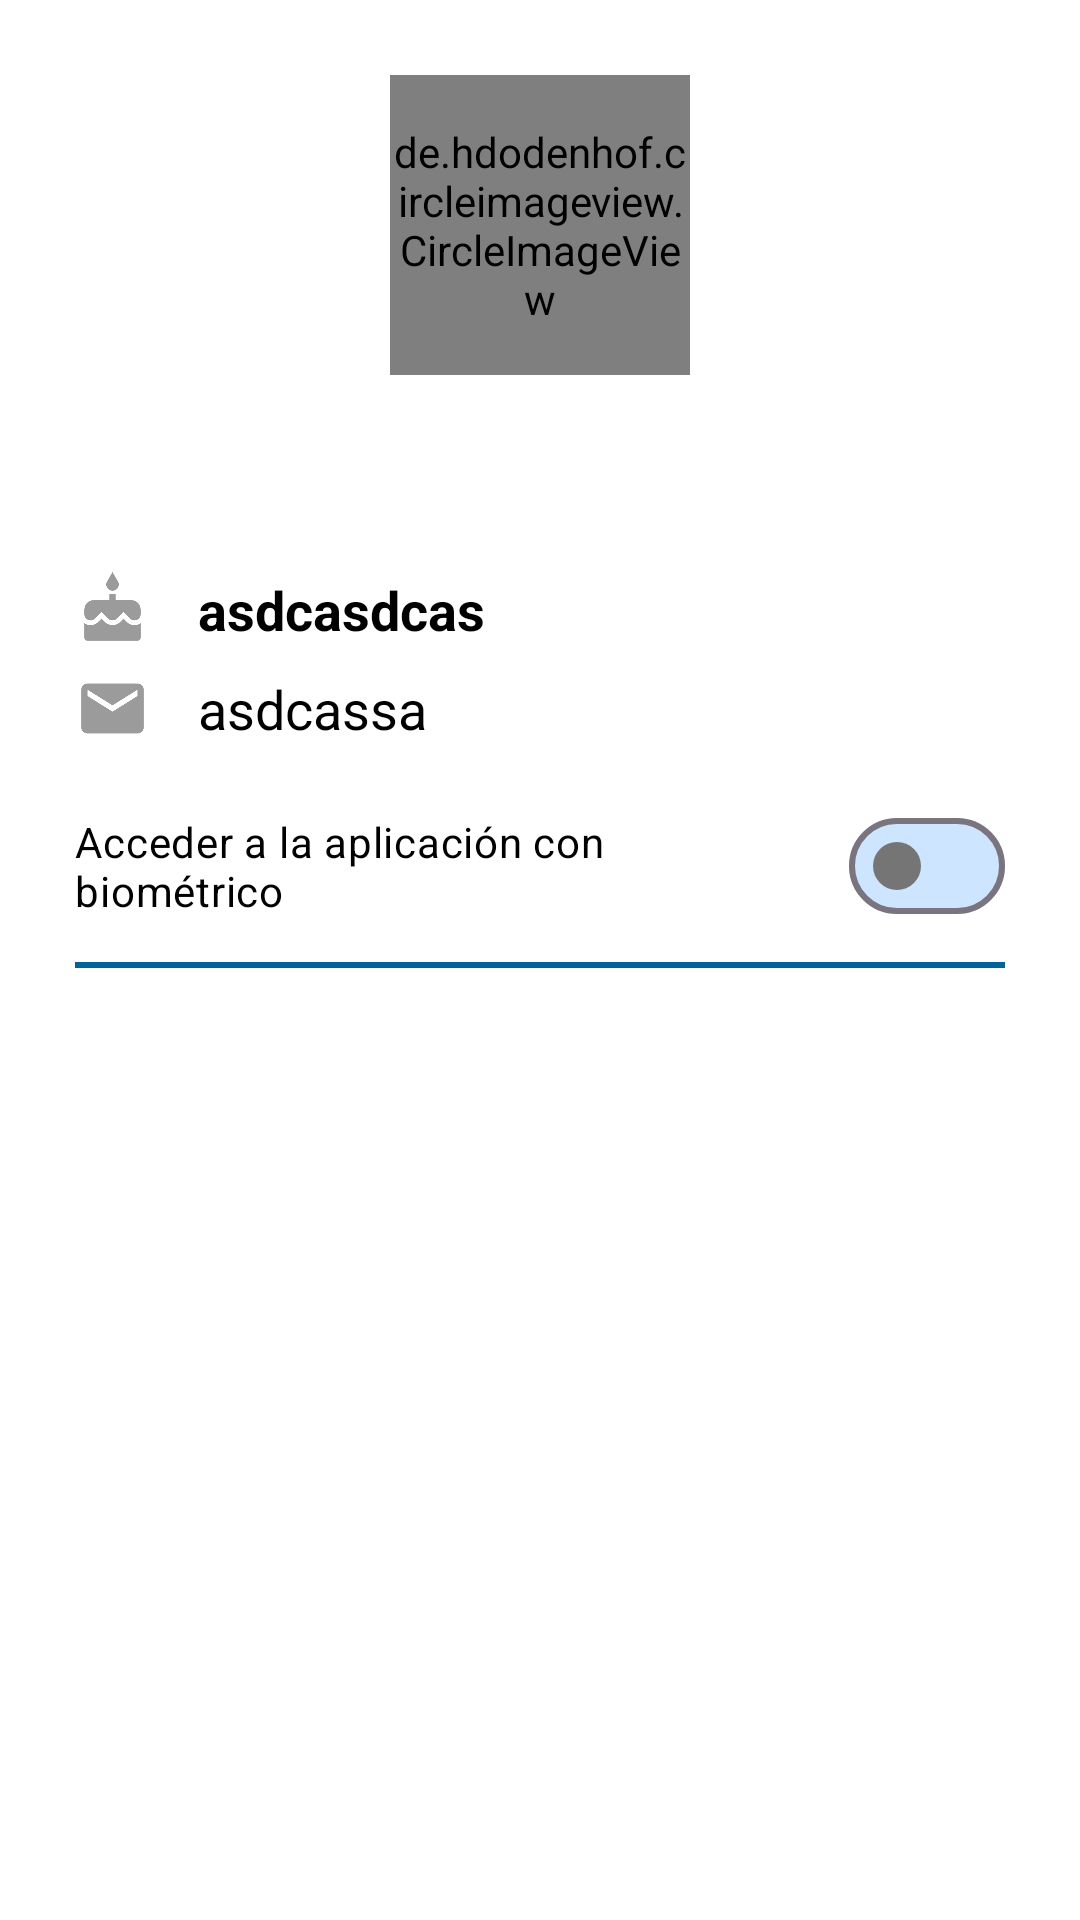

Where icons sit on this 1080x1920 app screen, as {"left": x1, "top": y1, "right": x2, "bottom": y2}:
birthday: {"left": 84, "top": 572, "right": 141, "bottom": 641}
email: {"left": 81, "top": 683, "right": 144, "bottom": 734}
